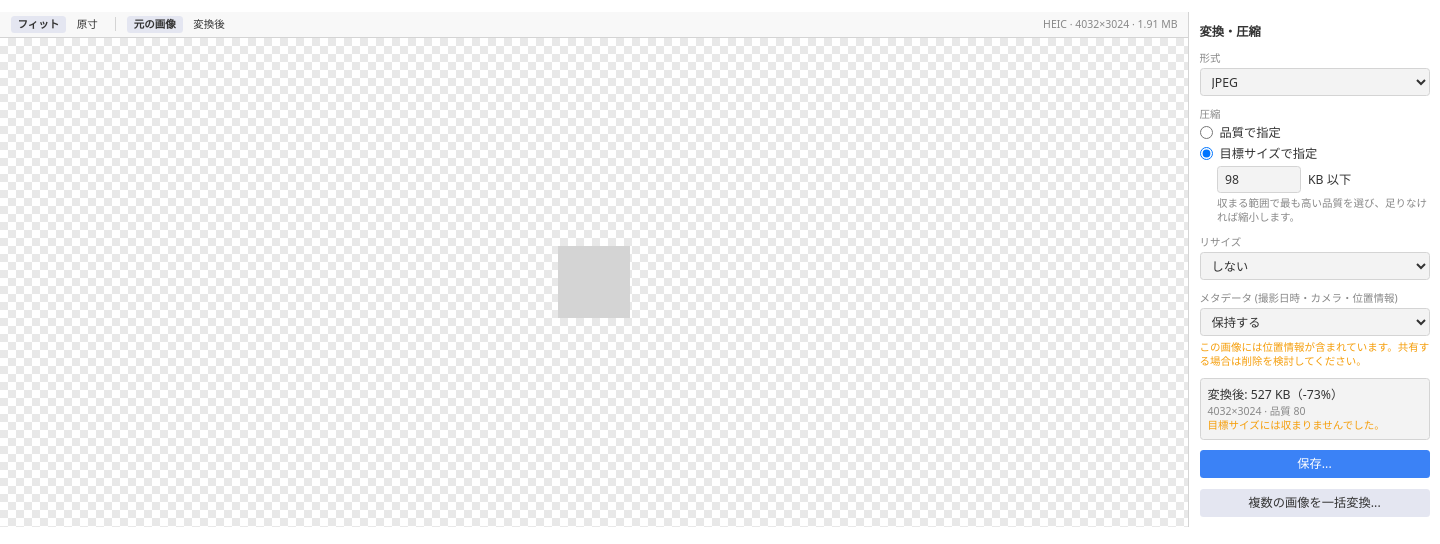
it: ImageViewer › 設定を変えて計算し直している間は、前の結果をもとにした警告を出さない
This screenshot has width=1440, height=544.
Expected: the dropdown named "形式" is shown, [1200, 68, 1430, 96]
Expected: the text "目標サイズには収まりませんでした。" is shown, [1208, 418, 1385, 432]
// 目標を変えた。前の結果 (527KB) は古い目標で出したものなので、新しい結果が出るまで判定しない
Replace the text in the number field named "目標サイズ (KB)" with "200". click: (1259, 179)
box: [1217, 166, 1301, 192]
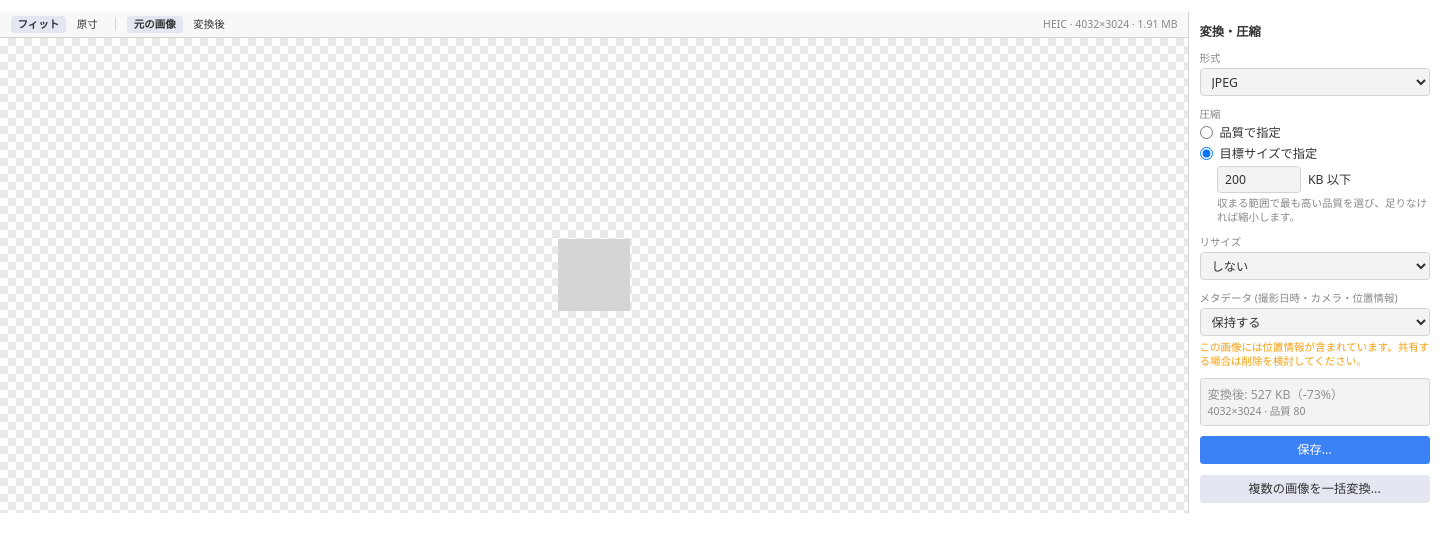
Expected: the text "目標サイズには収まりませんでした" is gone
